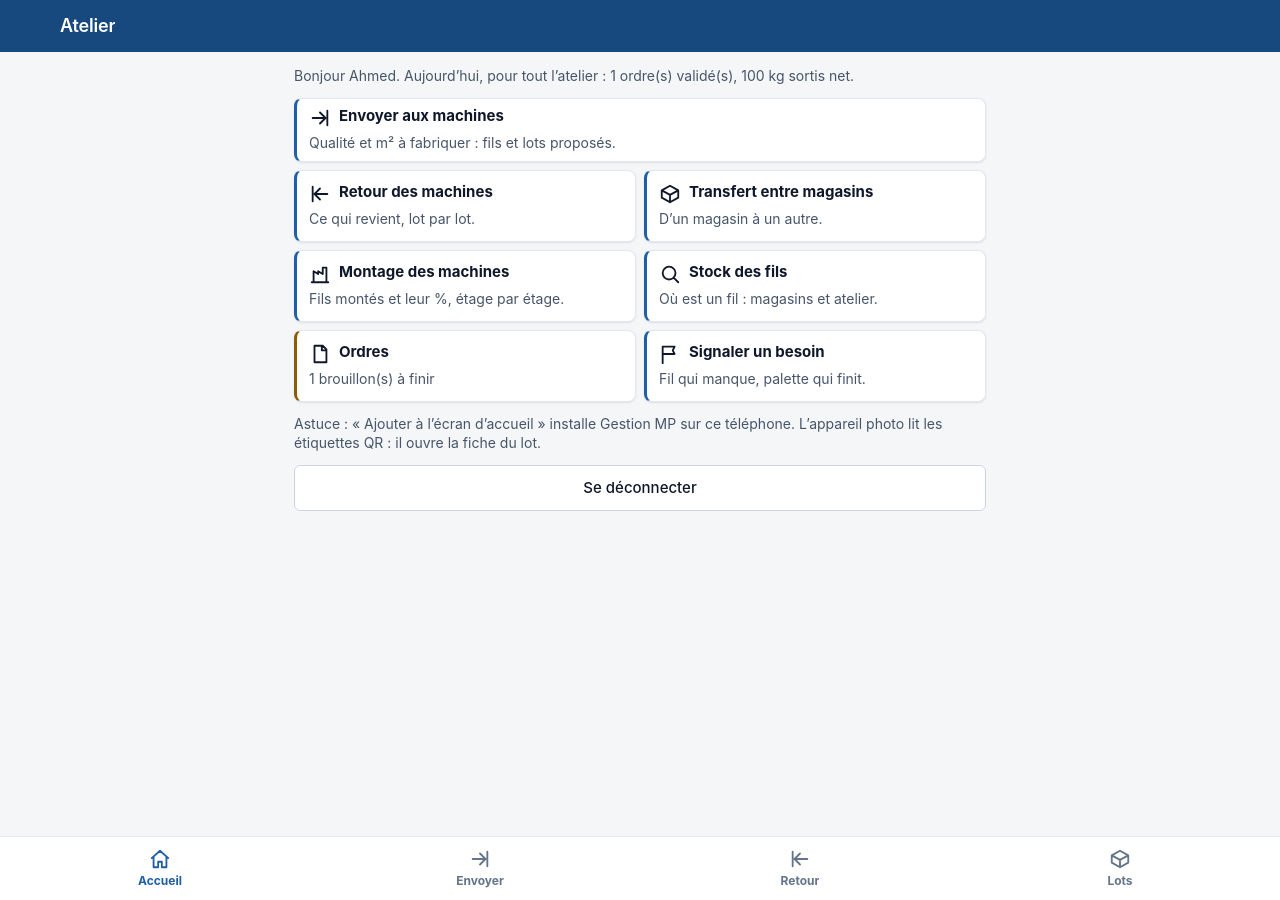
Scenario: Accueil de l’atelier › sorti net du jour, tuiles, compteurs de mes signalements, aucun prix
(page scrolled)
Expected: the link "Ordres 1 brouillon(s) à finir" is shown, [294,330,636,402]
Step 1. Click the button "Se déconnecter" → (640, 488), box [294,465,986,511]
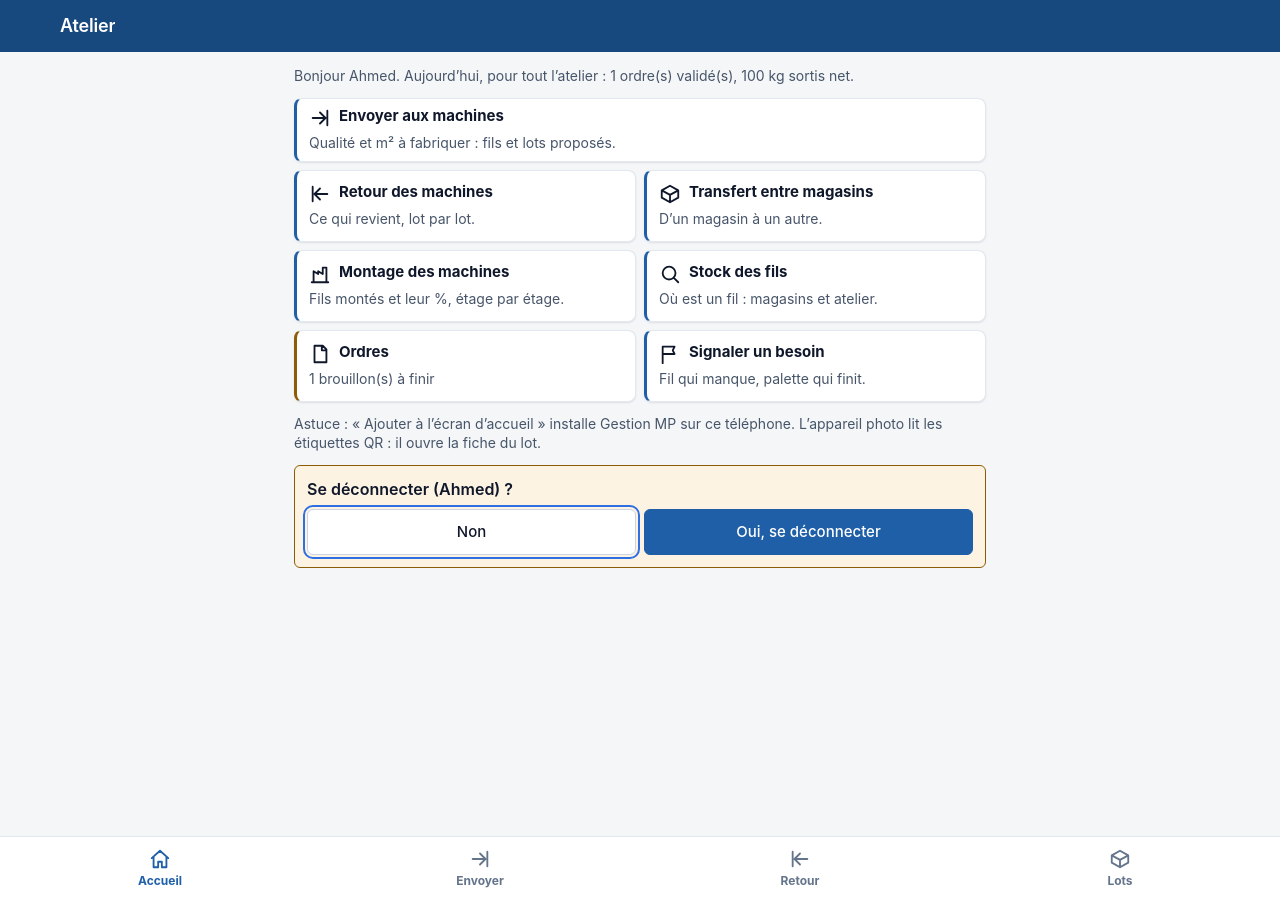
Expected: the text "Se déconnecter (Ahmed) ?" is shown, [307,479,513,499]
